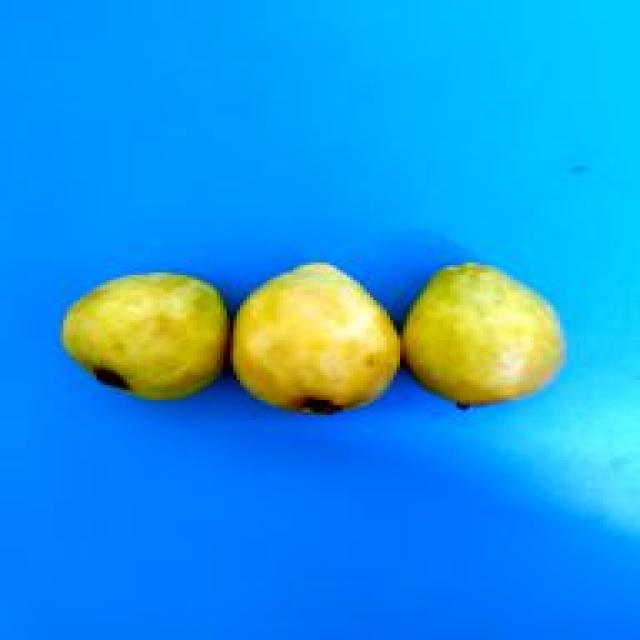Good_Guava: (230, 262, 403, 418), (400, 262, 567, 410), (60, 272, 230, 402)
